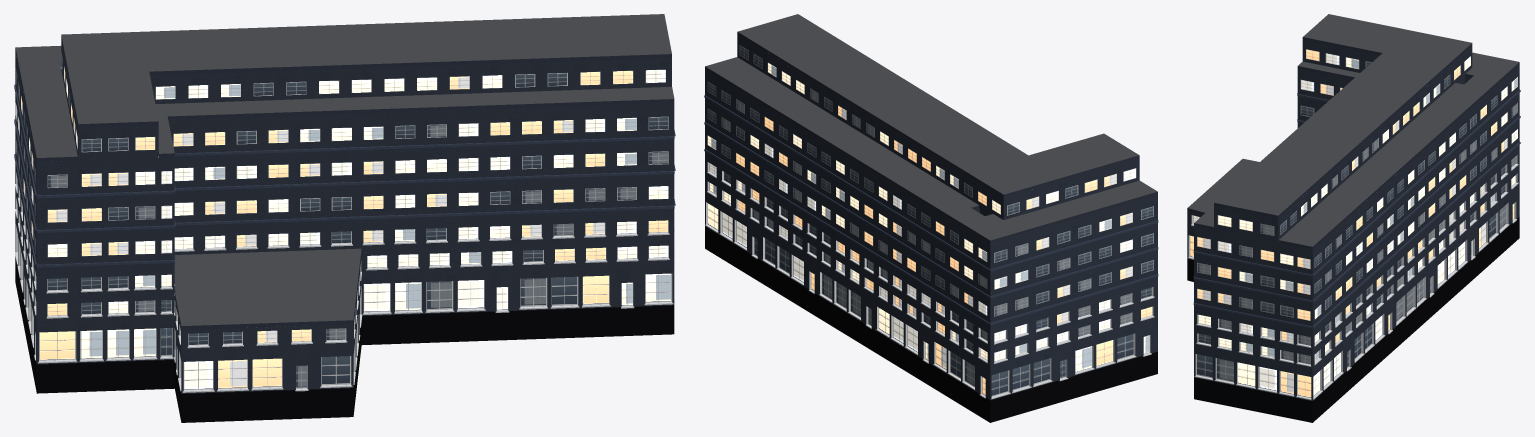
File: z2a_novotel.glb
3 views of the same model, side by side, from view 1: azimuth 30°, elevation 25°; view 2: azimuth 150°, elevation 25°; view 3: azimuth 270°, elevation 25° (orthographic). The views are drawn at different scales.
Visible parts, largest first — view 1: z2a_novotel; view 2: z2a_novotel; view 3: z2a_novotel.
Boxes of the visible parts, x1,y1,x2,y2 form: z2a_novotel: (14, 14, 675, 422); z2a_novotel: (704, 14, 1158, 422); z2a_novotel: (1187, 14, 1520, 422).
Bounding box in the file's own units: 65.51 × 27.68 × 41.71.
3 materials, 3 textured.
